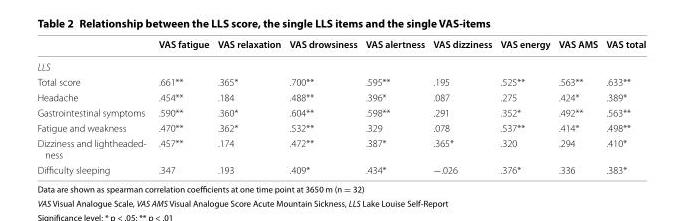table: (36, 37, 645, 182)
table column: (36, 37, 151, 182), (284, 37, 360, 182), (212, 37, 284, 182), (360, 37, 428, 182), (428, 37, 495, 182), (151, 37, 212, 182), (495, 37, 553, 182), (553, 37, 601, 182), (601, 37, 645, 182)
table column header: (36, 37, 645, 55)
table projected row header: (36, 55, 645, 73)
table row: (36, 135, 645, 161), (36, 161, 645, 182), (36, 37, 645, 55), (36, 55, 645, 73), (36, 73, 645, 89), (36, 119, 645, 135), (36, 89, 645, 104), (36, 104, 645, 119)
